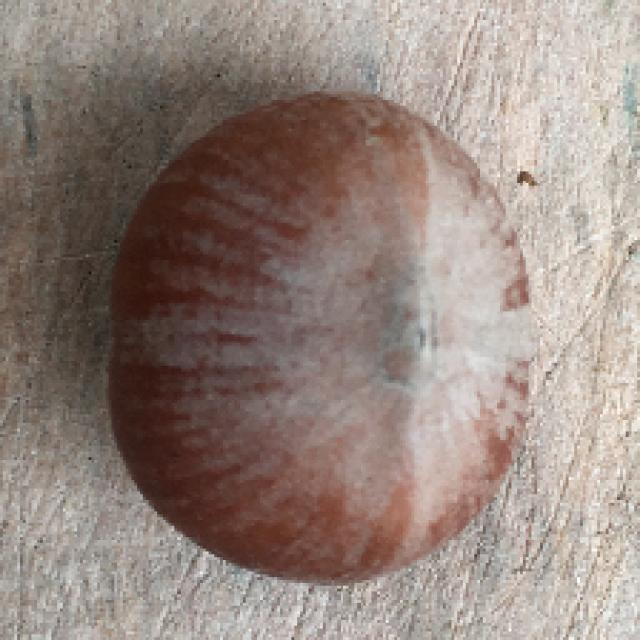qualityHazelnut: (101, 80, 544, 586)
